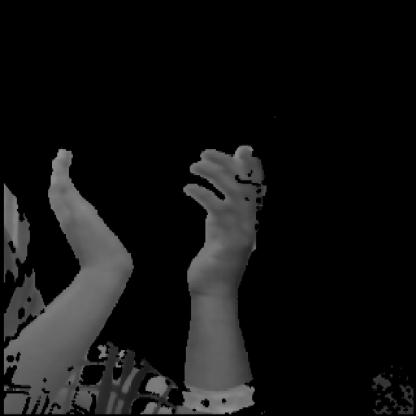clap: (25, 132, 276, 334)
